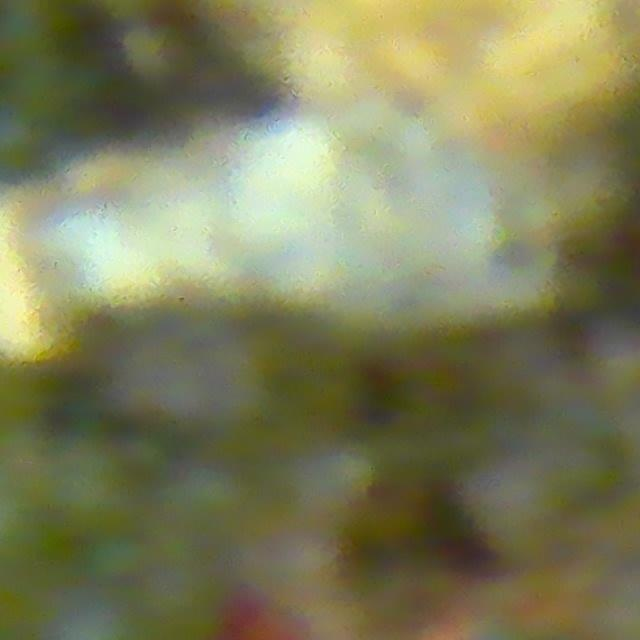SeaGrape: (162, 469, 254, 555), (148, 547, 226, 640), (54, 439, 135, 525), (92, 528, 154, 587)
